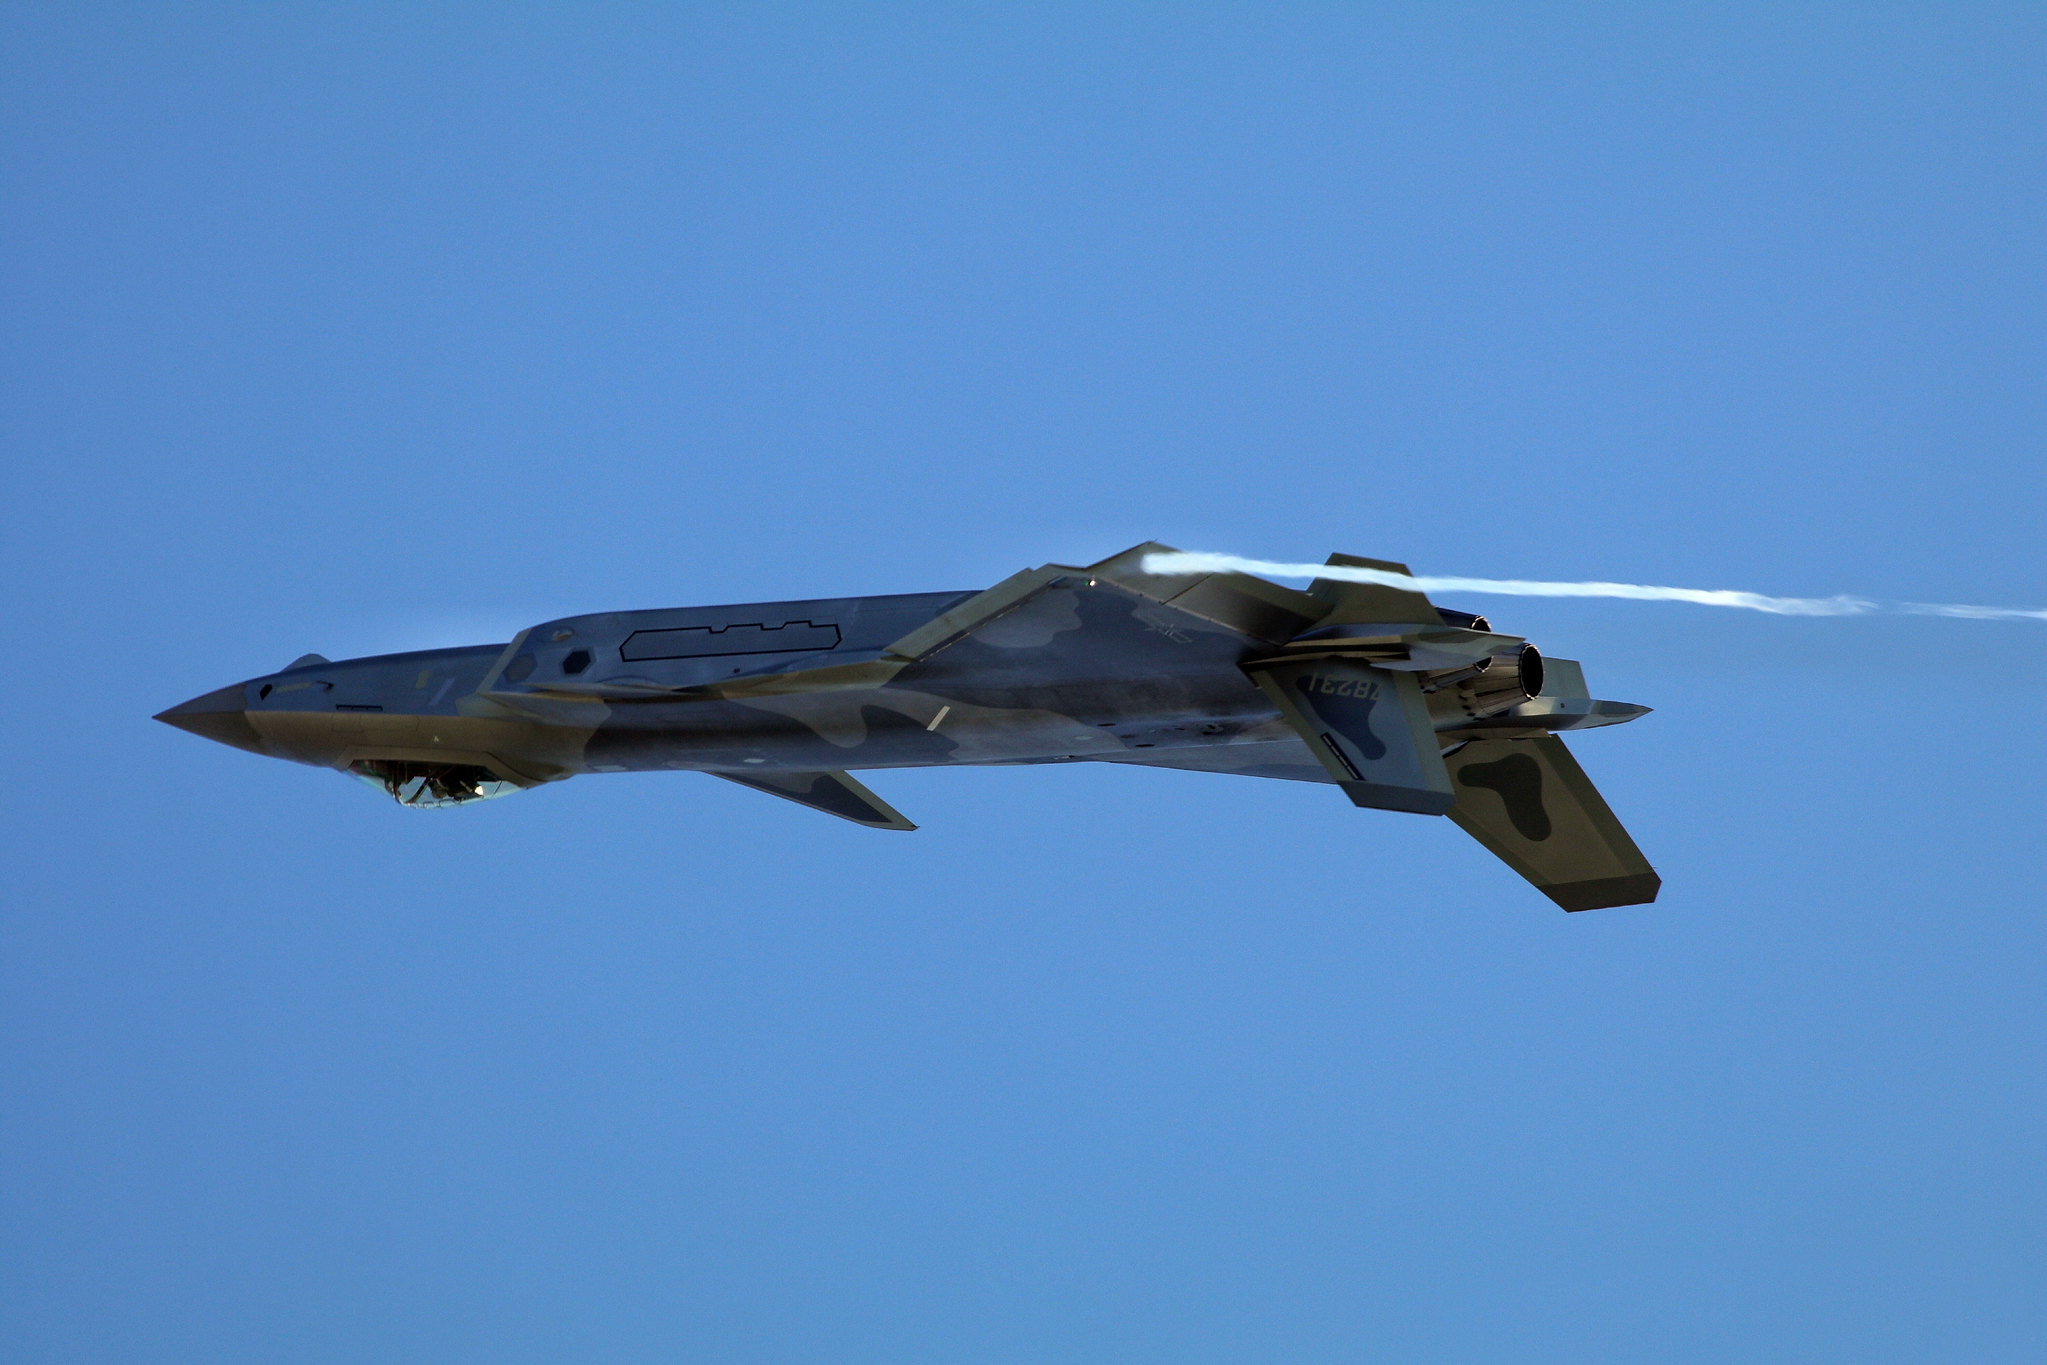J20: (149, 538, 1665, 913)
